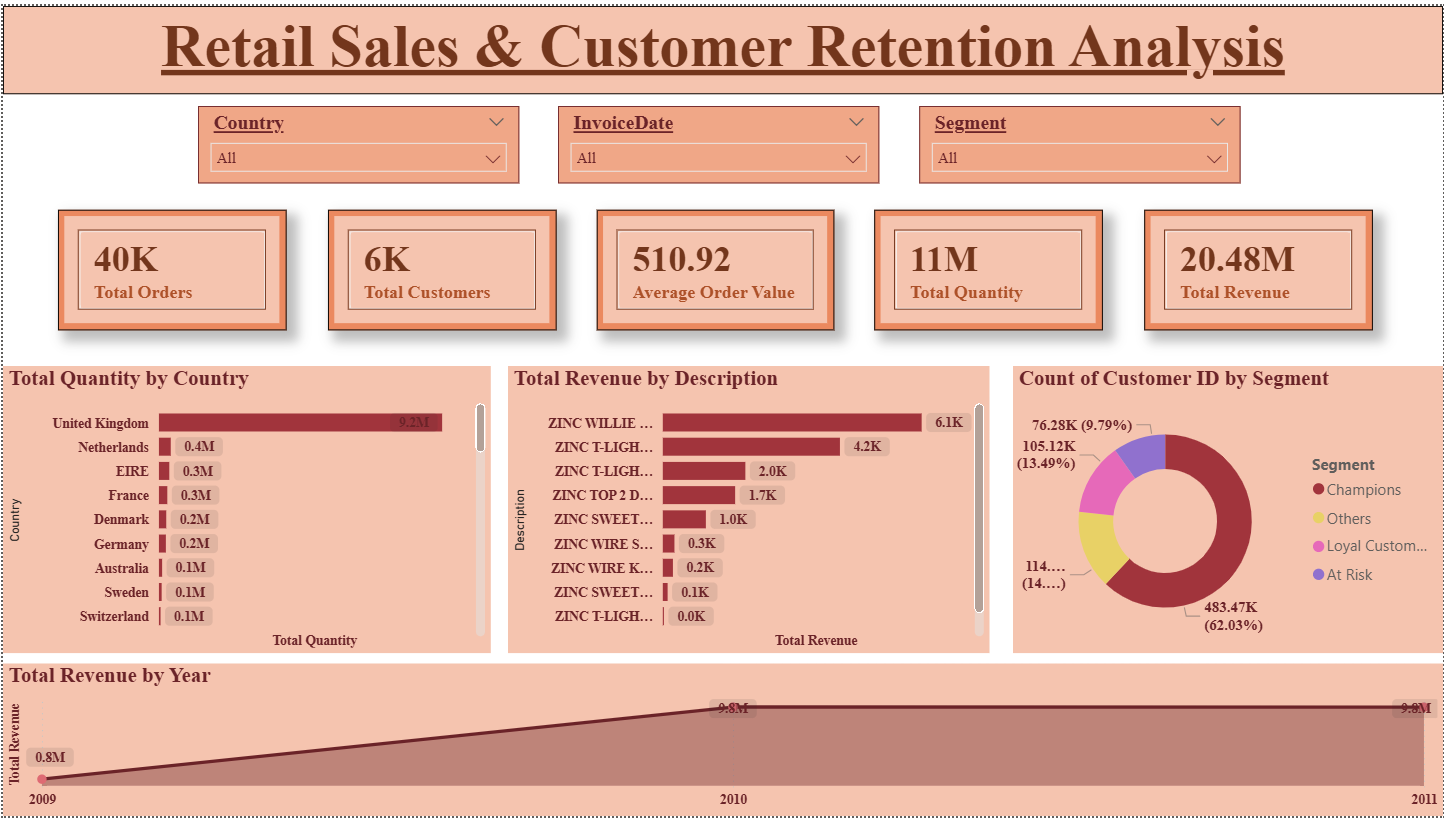

Layout of this report page (visuals, bound fields, positions):
{"tool":"powerbi","page":{"name":"Page 1","canvas":[1280,720],"ordinal":0},"visuals":[{"type":"textbox","box":[0,0,1280.3,78.2],"z":0},{"type":"slicer","fields":{"Values":["Retail_Sales.Country"]},"box":[173.4,89.2,285.4,68.6],"z":1},{"type":"slicer","fields":{"Values":["Retail_Sales.InvoiceDate"]},"box":[493.9,89.2,285.4,68.6],"z":2},{"type":"slicer","fields":{"Values":["Customer_RFM.Segment"]},"box":[814.3,89.2,285.4,68.6],"z":3},{"type":"cardVisual","fields":{"Data":["Measures Table.Total Orders"]},"box":[49.4,181.1,203.1,107],"z":4},{"type":"cardVisual","fields":{"Data":["Measures Table.Average Order Value"]},"box":[527.6,181.1,211.3,107],"z":5},{"type":"cardVisual","fields":{"Data":["Measures Table.Total Customers"]},"box":[288.5,181.1,203.1,107],"z":6},{"type":"cardVisual","fields":{"Data":["Measures Table.Total Quantity"]},"box":[775,181.1,203.1,107],"z":7},{"type":"cardVisual","fields":{"Data":["Measures Table.Total Revenue"]},"box":[1014.1,181.1,203.1,107],"z":8},{"type":"lineChart","fields":{"Category":["Retail_Sales.InvoiceDate.Variation.Date Hierarchy.Year","Retail_Sales.InvoiceDate.Variation.Date Hierarchy.Quarter","Retail_Sales.InvoiceDate.Variation.Date Hierarchy.Month","Retail_Sales.InvoiceDate.Variation.Date Hierarchy.Day"],"Y":["Measures Table.Total Revenue"]},"box":[0,584.6,1280.3,135.8],"z":9},{"type":"clusteredBarChart","fields":{"Category":["Retail_Sales.Country"],"Y":["Measures Table.Total Quantity"]},"box":[0,319.7,433.6,255.2],"z":10},{"type":"clusteredBarChart","fields":{"Category":["Retail_Sales.Description"],"Y":["Measures Table.Total Revenue"]},"box":[448.7,319.7,428.1,255.2],"z":11},{"type":"donutChart","fields":{"Category":["Customer_RFM.Segment"],"Y":["CountNonNull(Retail_Sales.Customer ID)"]},"box":[897.4,319.7,382.8,255.2],"z":12}]}

Visuals, with their boxes in screenshot pixels (x1, y1, x2, y2), scaled from the page's 1280x720 canvas onto the 1444x819 screenshot:
textbox: (0,0,1443,89)
slicer - Retail_Sales.Country: (196,101,518,179)
slicer - Retail_Sales.InvoiceDate: (557,101,879,179)
slicer - Customer_RFM.Segment: (919,101,1241,179)
cardVisual - Measures Table.Total Orders: (56,206,285,328)
cardVisual - Measures Table.Average Order Value: (595,206,834,328)
cardVisual - Measures Table.Total Customers: (325,206,555,328)
cardVisual - Measures Table.Total Quantity: (874,206,1103,328)
cardVisual - Measures Table.Total Revenue: (1144,206,1373,328)
lineChart - Retail_Sales.InvoiceDate.Variation.Date Hierarchy.Year x Retail_Sales.InvoiceDate.Variation.Date Hierarchy.Quarter: (0,665,1443,818)
clusteredBarChart - Retail_Sales.Country x Measures Table.Total Quantity: (0,364,489,654)
clusteredBarChart - Retail_Sales.Description x Measures Table.Total Revenue: (506,364,989,654)
donutChart - Customer_RFM.Segment x CountNonNull(Retail_Sales.Customer ID): (1012,364,1443,654)
